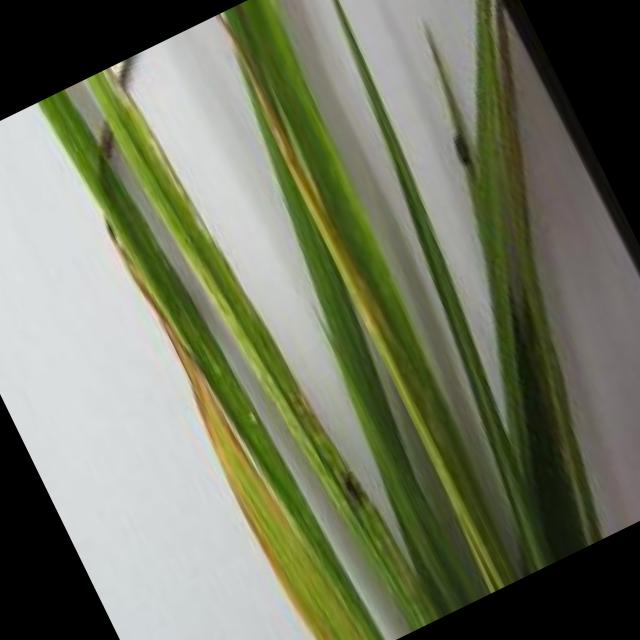rice-bug: (334, 466, 370, 512), (442, 128, 476, 170)
